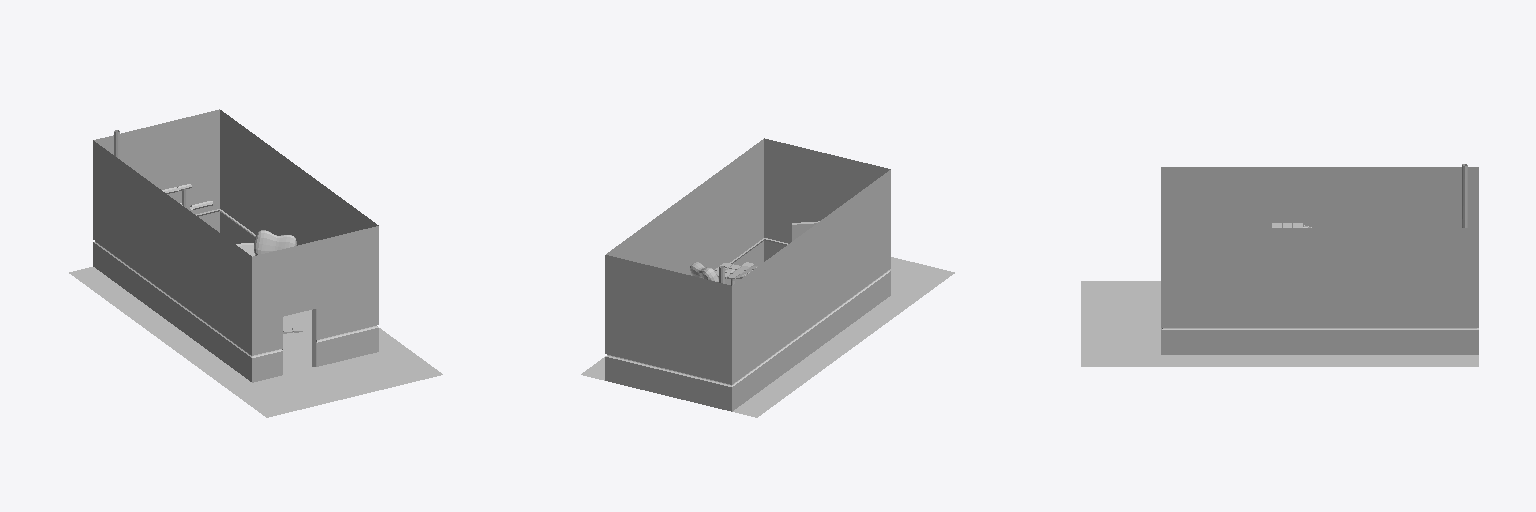
The model's file is level_v2.obj.
3 views of the same model, side by side, from view 1: azimuth 30°, elevation 25°; view 2: azimuth 150°, elevation 25°; view 3: azimuth 270°, elevation 25° (orthographic).
Visible parts, largest first — view 1: walls, Cube.008; view 2: walls; view 3: walls.
Part boxes in pixels (x1,y1,x2,y2): walls: (69, 109, 442, 417); Cube.008: (254, 230, 296, 255); walls: (581, 138, 954, 417); walls: (1081, 167, 1478, 366).
Bounding box in the file's own units: 42.52 × 31.41 × 82.67.